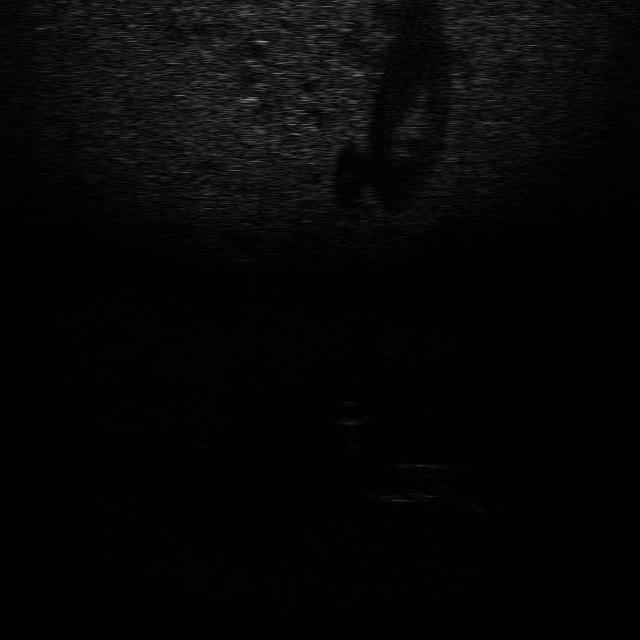ball: (322, 398, 377, 428)
tyre: (362, 459, 458, 503)
